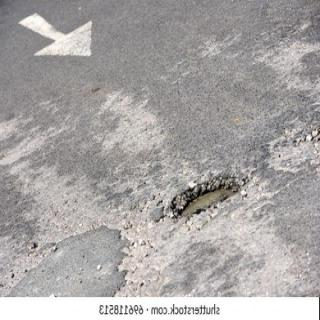pothole: (170, 178, 246, 222)
